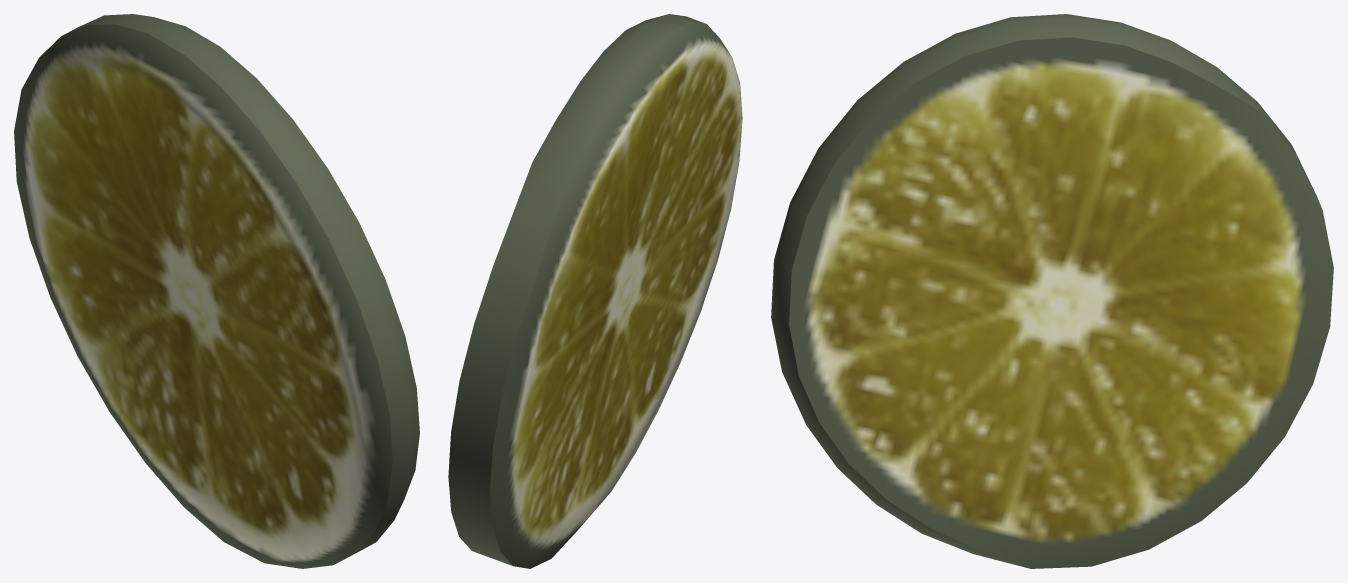
Rendered from SM_lemon.fbx.
The picture shows the model from 3 angles, left to right: view 1: azimuth 30°, elevation 25°; view 2: azimuth 150°, elevation 25°; view 3: azimuth 270°, elevation 25°; orthographic projection. The views are drawn at different scales.
Parts seen in each view (by area): view 1: SM_lemon_LOD0; view 2: SM_lemon_LOD0; view 3: SM_lemon_LOD0.
Boxes of the visible parts, left/top/right/bottom form: SM_lemon_LOD0: left=14, top=14, right=419, bottom=568; SM_lemon_LOD0: left=448, top=14, right=742, bottom=568; SM_lemon_LOD0: left=771, top=14, right=1333, bottom=568.
Size of the model in its own units: 2.93 by 9.41 by 9.32.
Materials: 1 (1 with a texture image).
